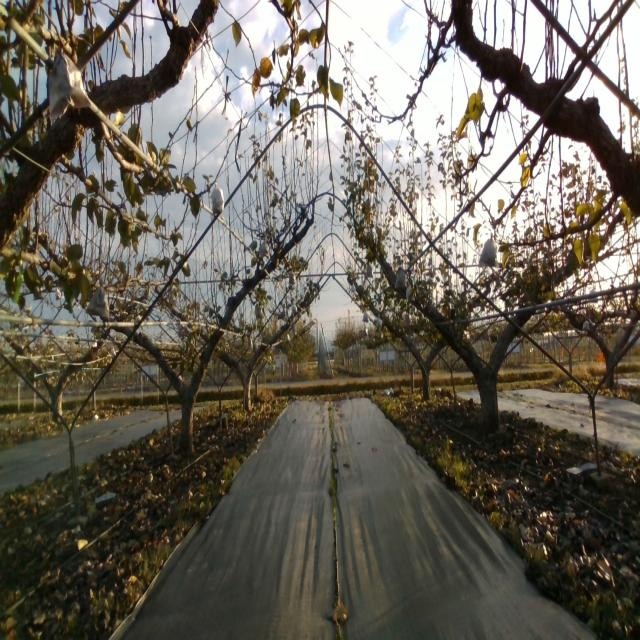pearbags: (48, 48, 91, 120), (478, 232, 497, 268), (210, 181, 226, 216), (393, 269, 408, 288), (258, 238, 269, 260)
